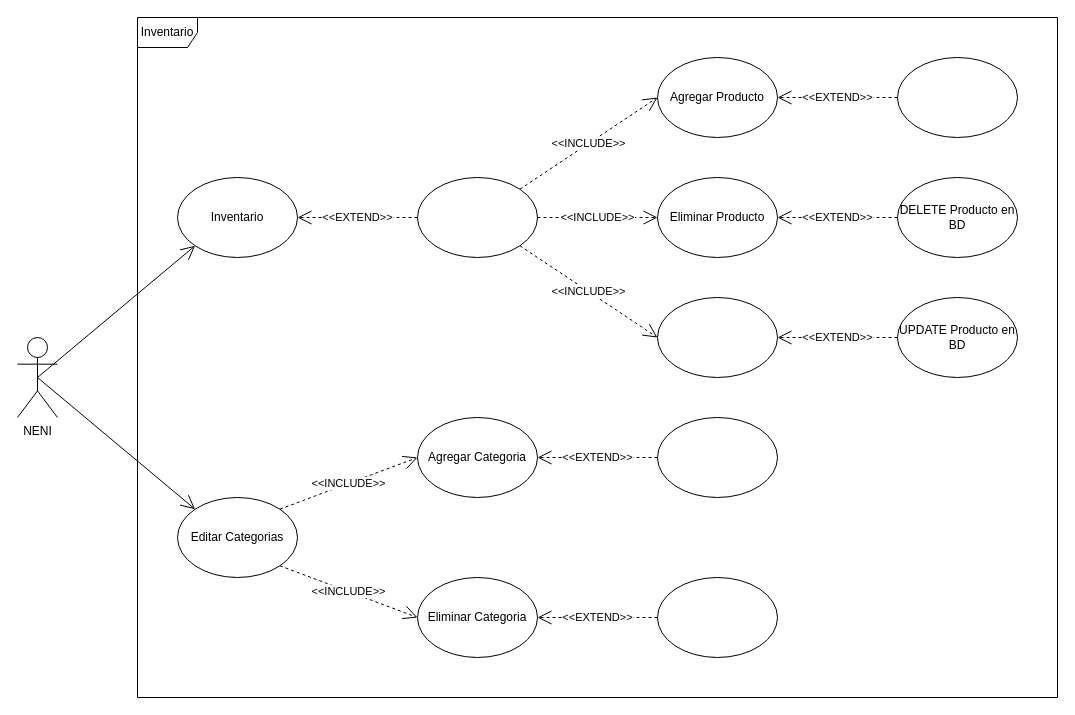
Image size: 1075x715. Some labels were removed from this diagram. The shapes that lost their labels are listed below. From the top down, each one's box as (x1, y1, x2, y2) in pixels, then its label:
(896, 56, 1018, 138): INSERT Poducto en BD
(416, 176, 538, 258): Mostrar Inventario
(656, 296, 778, 378): Modificar Producto
(656, 416, 778, 498): INSERT Categoria en BD
(656, 576, 778, 658): DELETE Categoria en BD
